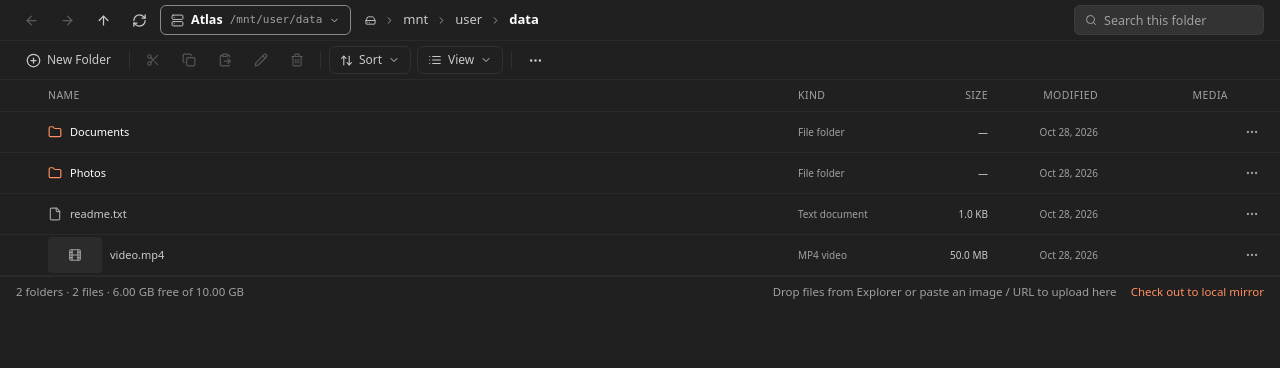
Scenario: BrowseView redesign — two-row toolbar › overflow "Select all" selects every entry in the current folder
The image size is (1280, 368).
Expected: the text "readme.txt" is shown, 70,206 -> 127,222
Click the button named "More options" at (535, 60), box 520,45 -> 550,75
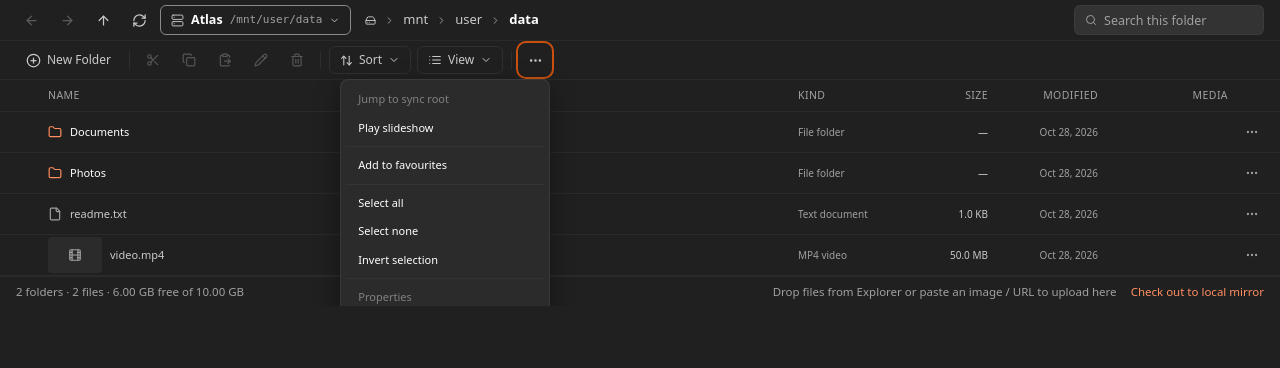
Click the menu item "Select all" at (445, 203), box 346,188 -> 544,217
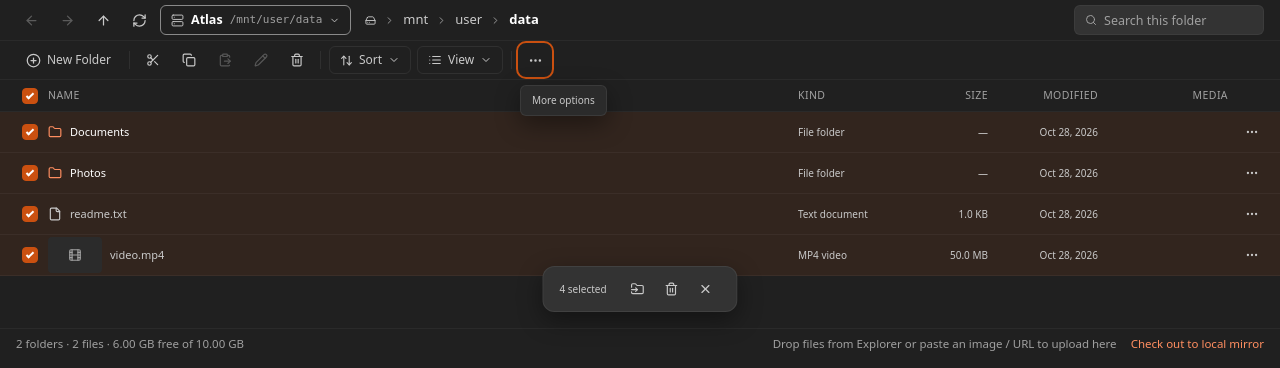
Now the 1st button named "Delete selected" is enabled, box 282,45 -> 312,75
